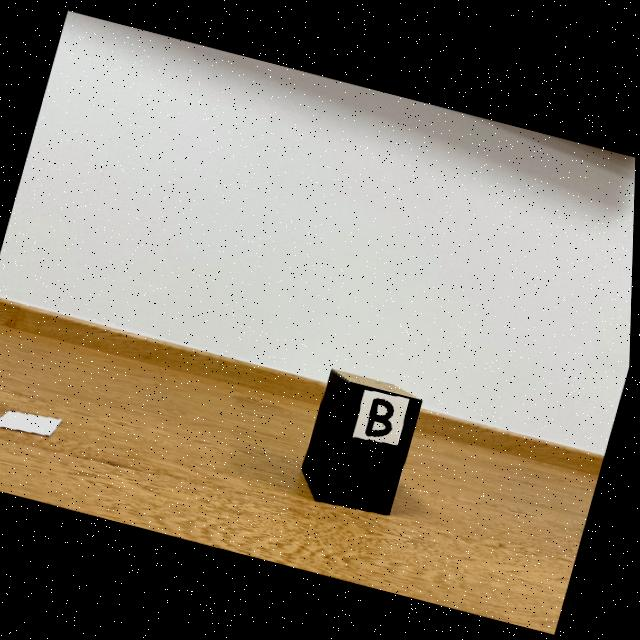B: (367, 397, 396, 436)
